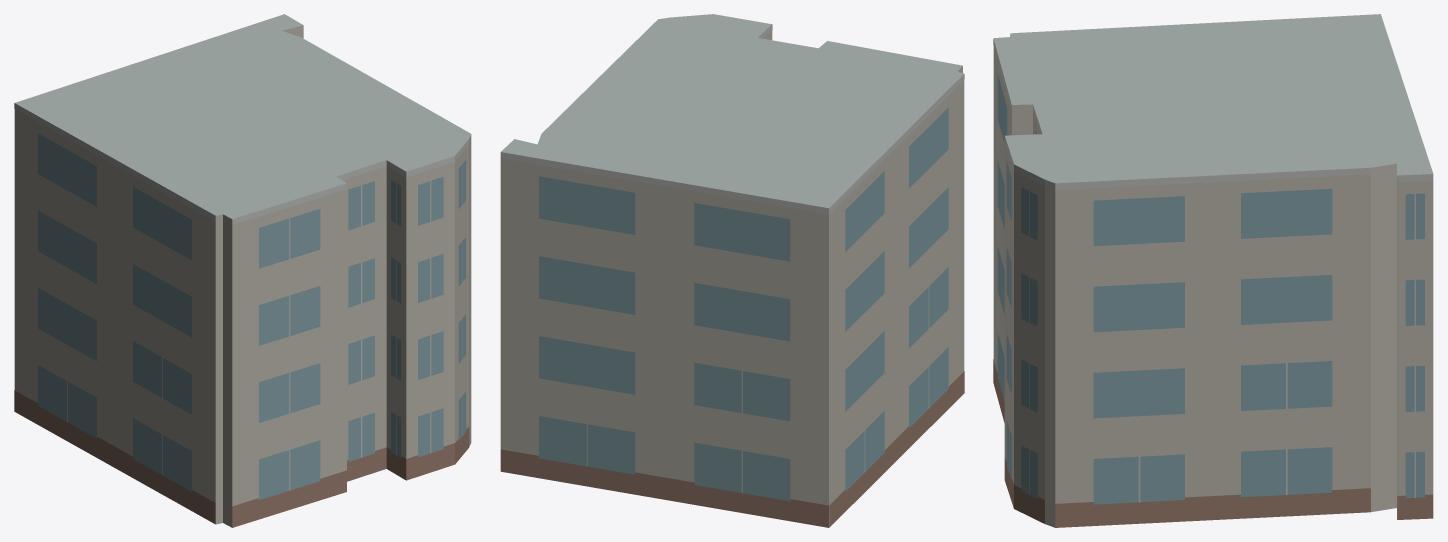
Rendered from survey-upis-32576963.glb.
3 renders of one model, left to right at view 1: azimuth 30°, elevation 25°; view 2: azimuth 150°, elevation 25°; view 3: azimuth 270°, elevation 25°, orthographic. The views are drawn at different scales.
Visible parts, largest first — view 1: survey-upis-32576963.tmp; view 2: survey-upis-32576963.tmp; view 3: survey-upis-32576963.tmp.
Boxes of the visible parts, x1,y1,x2,y2 form: survey-upis-32576963.tmp: [14, 14, 471, 527]; survey-upis-32576963.tmp: [500, 14, 964, 527]; survey-upis-32576963.tmp: [993, 14, 1433, 527].
Size of the model in its own units: 13.3 by 12.6 by 14.6.
